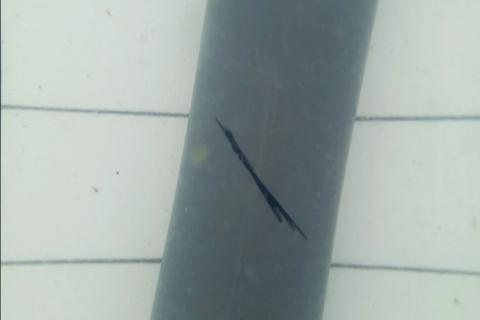keretakan: (214, 114, 310, 244)
